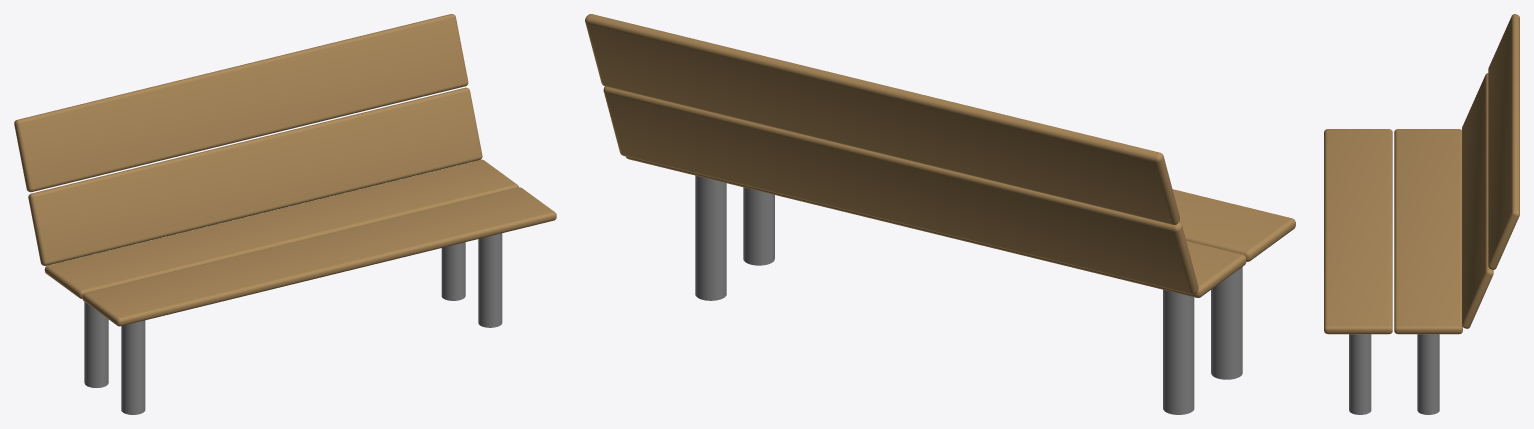
The model's file is Banco.fbx.
The picture shows the model from 3 angles, left to right: view 1: azimuth 30°, elevation 25°; view 2: azimuth 150°, elevation 25°; view 3: azimuth 270°, elevation 25°; orthographic projection. The views are drawn at different scales.
Visible parts, largest first — view 1: Cube.001, Cube.003, Cube, Cube.002, Cylinder, Cylinder.002, Cylinder.001, Cylinder.003; view 2: Cube.001, Cube.003, Cube, Cylinder.003, Cylinder.001, Cube.002, Cylinder, Cylinder.002; view 3: Cube, Cube.002, Cube.001, Cube.003, Cylinder.002, Cylinder.003.
Part boxes in pixels (x1=…): Cube.001: x1=14, y1=14, x2=468, y2=192; Cube.003: x1=28, y1=87, x2=482, y2=265; Cube: x1=82, y1=187, x2=556, y2=326; Cube.002: x1=44, y1=159, x2=518, y2=298; Cylinder: x1=121, y1=320, x2=145, y2=414; Cylinder.002: x1=478, y1=233, x2=502, y2=327; Cylinder.001: x1=84, y1=302, x2=108, y2=387; Cylinder.003: x1=441, y1=242, x2=465, y2=300; Cube.001: x1=585, y1=14, x2=1179, y2=224; Cube.003: x1=603, y1=86, x2=1198, y2=294; Cube: x1=1172, y1=189, x2=1295, y2=261; Cylinder.003: x1=695, y1=175, x2=726, y2=300; Cylinder.001: x1=1163, y1=289, x2=1194, y2=414; Cube.002: x1=626, y1=156, x2=1246, y2=297; Cylinder: x1=1211, y1=267, x2=1242, y2=379; Cylinder.002: x1=743, y1=187, x2=774, y2=265; Cube: x1=1324, y1=129, x2=1392, y2=334; Cube.002: x1=1394, y1=129, x2=1462, y2=334; Cube.001: x1=1488, y1=14, x2=1519, y2=269; Cube.003: x1=1462, y1=73, x2=1493, y2=328; Cylinder.002: x1=1349, y1=334, x2=1371, y2=414; Cylinder.003: x1=1417, y1=334, x2=1439, y2=414.
Size of the model in its own units: 41.44 by 21.29 by 17.19.
